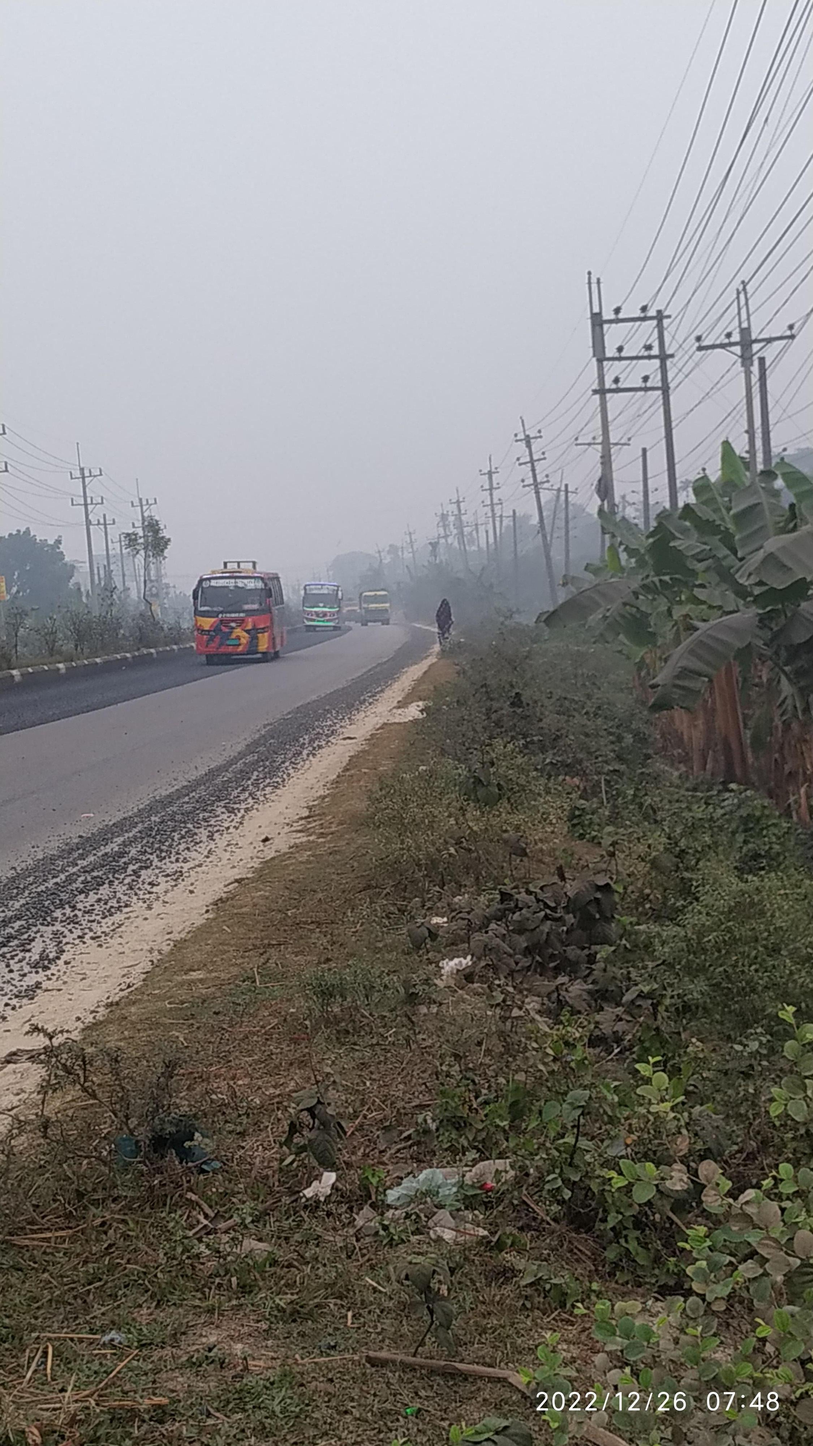Bus: (173, 547, 307, 678), (300, 569, 354, 649)
Truck: (357, 581, 409, 636)
